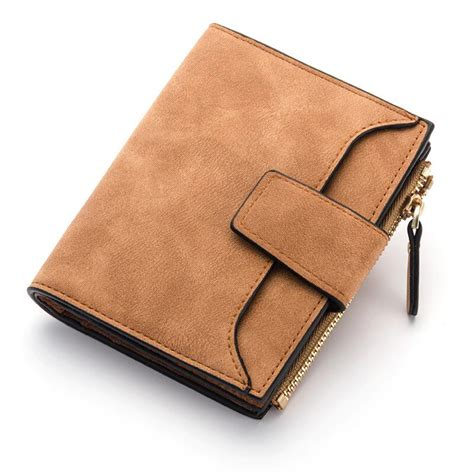cuero: (26, 22, 435, 420)
